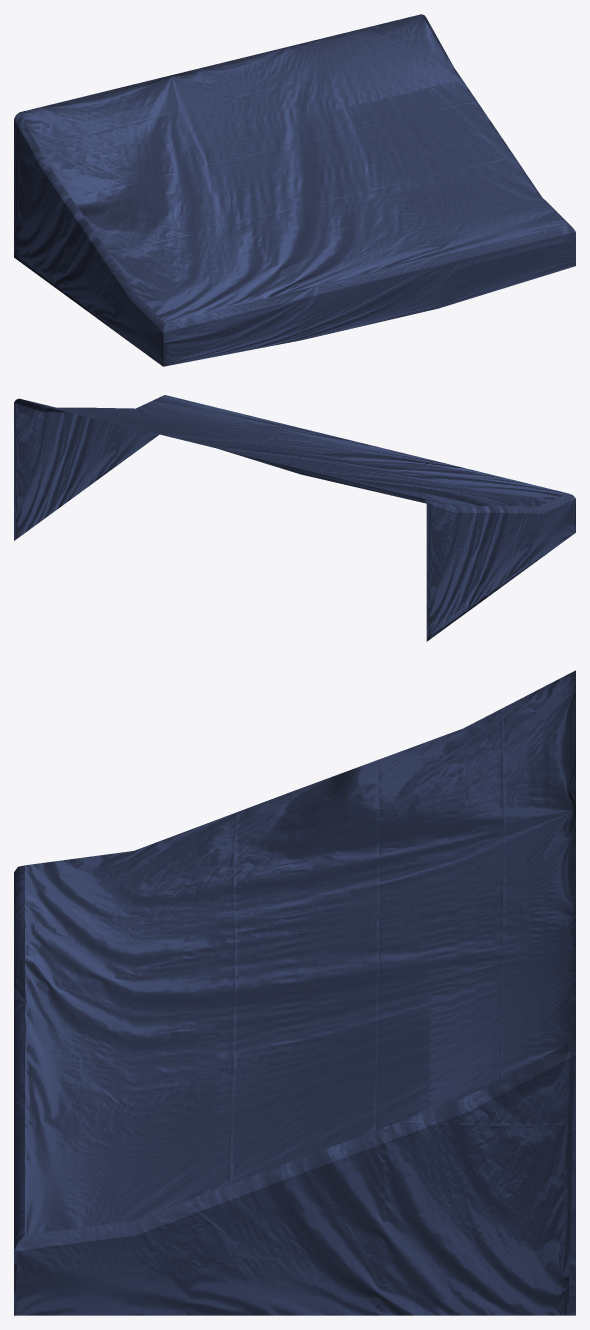
Rendered from SM_Bud_Attach_Canopy_01.FBX.
3 renders of one model, top to bottom at view 1: azimuth 30°, elevation 25°; view 2: azimuth 150°, elevation 25°; view 3: azimuth 270°, elevation 25°, orthographic. The views are drawn at different scales.
Visible parts, largest first — view 1: SM_Bud_Attach_Canopy_01; view 2: SM_Bud_Attach_Canopy_01; view 3: SM_Bud_Attach_Canopy_01.
Boxes of the visible parts, x1,y1,x2,y2 form: SM_Bud_Attach_Canopy_01: (14, 14, 575, 366); SM_Bud_Attach_Canopy_01: (14, 395, 575, 641); SM_Bud_Attach_Canopy_01: (14, 670, 575, 1315).
Bounding box in the file's own units: 4 × 1.42 × 2.5.
